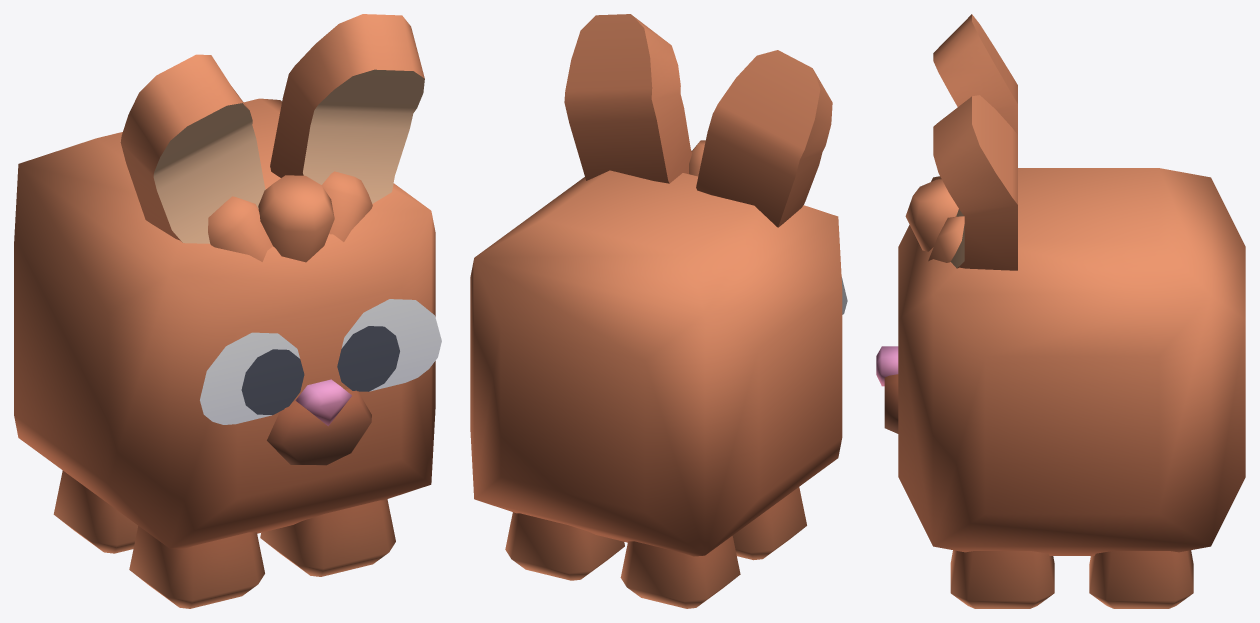
File: bunny.glb
3 renders of one model, left to right at view 1: azimuth 30°, elevation 25°; view 2: azimuth 150°, elevation 25°; view 3: azimuth 270°, elevation 25°, orthographic. The views are drawn at different scales.
Parts seen in each view (by area): view 1: body, leg-front-right, leg-front-left, leg-back-right; view 2: body, leg-back-right, leg-back-left, leg-front-right; view 3: body, leg-back-left, leg-front-left.
Part boxes in pixels (<box>): body: <box>14,14,441,549</box>; leg-front-right: <box>129,526,264,608</box>; leg-front-left: <box>260,499,395,576</box>; leg-back-right: <box>53,470,137,553</box>; body: <box>470,14,847,556</box>; leg-back-right: <box>620,536,740,608</box>; leg-back-left: <box>505,512,624,580</box>; leg-front-right: <box>732,487,806,560</box>; body: <box>876,14,1245,555</box>; leg-back-left: <box>1089,550,1193,608</box>; leg-front-left: <box>950,550,1054,608</box>.
Bounding box in the file's own units: 1.25 × 2.01 × 1.33.
Materials: 1 (1 with a texture image).
